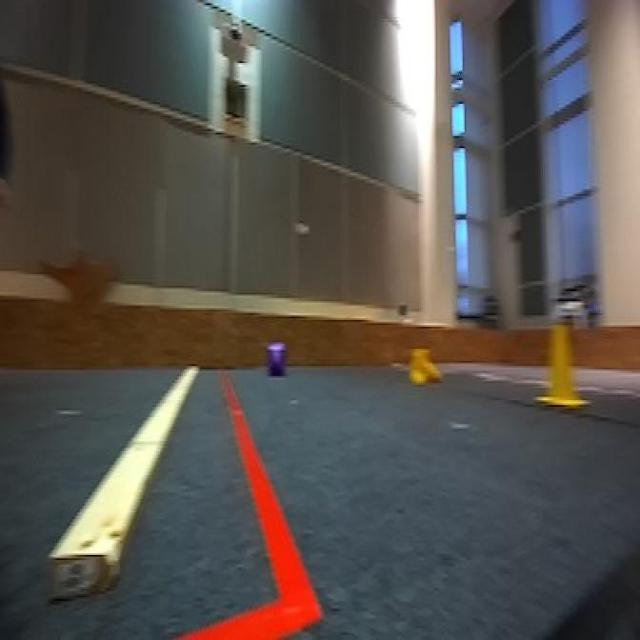frc_cone: (541, 317, 587, 412), (408, 346, 443, 384), (266, 342, 286, 376)
frc_cube: (266, 342, 286, 376)
